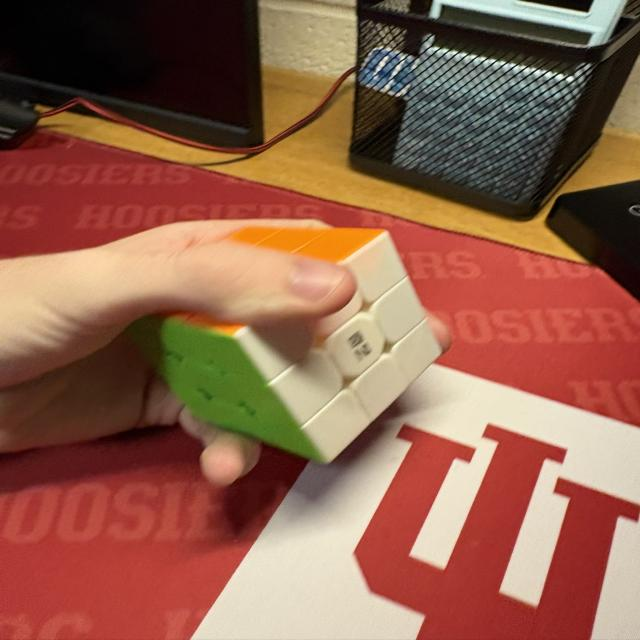Rubiks Cube: (128, 227, 443, 463)
